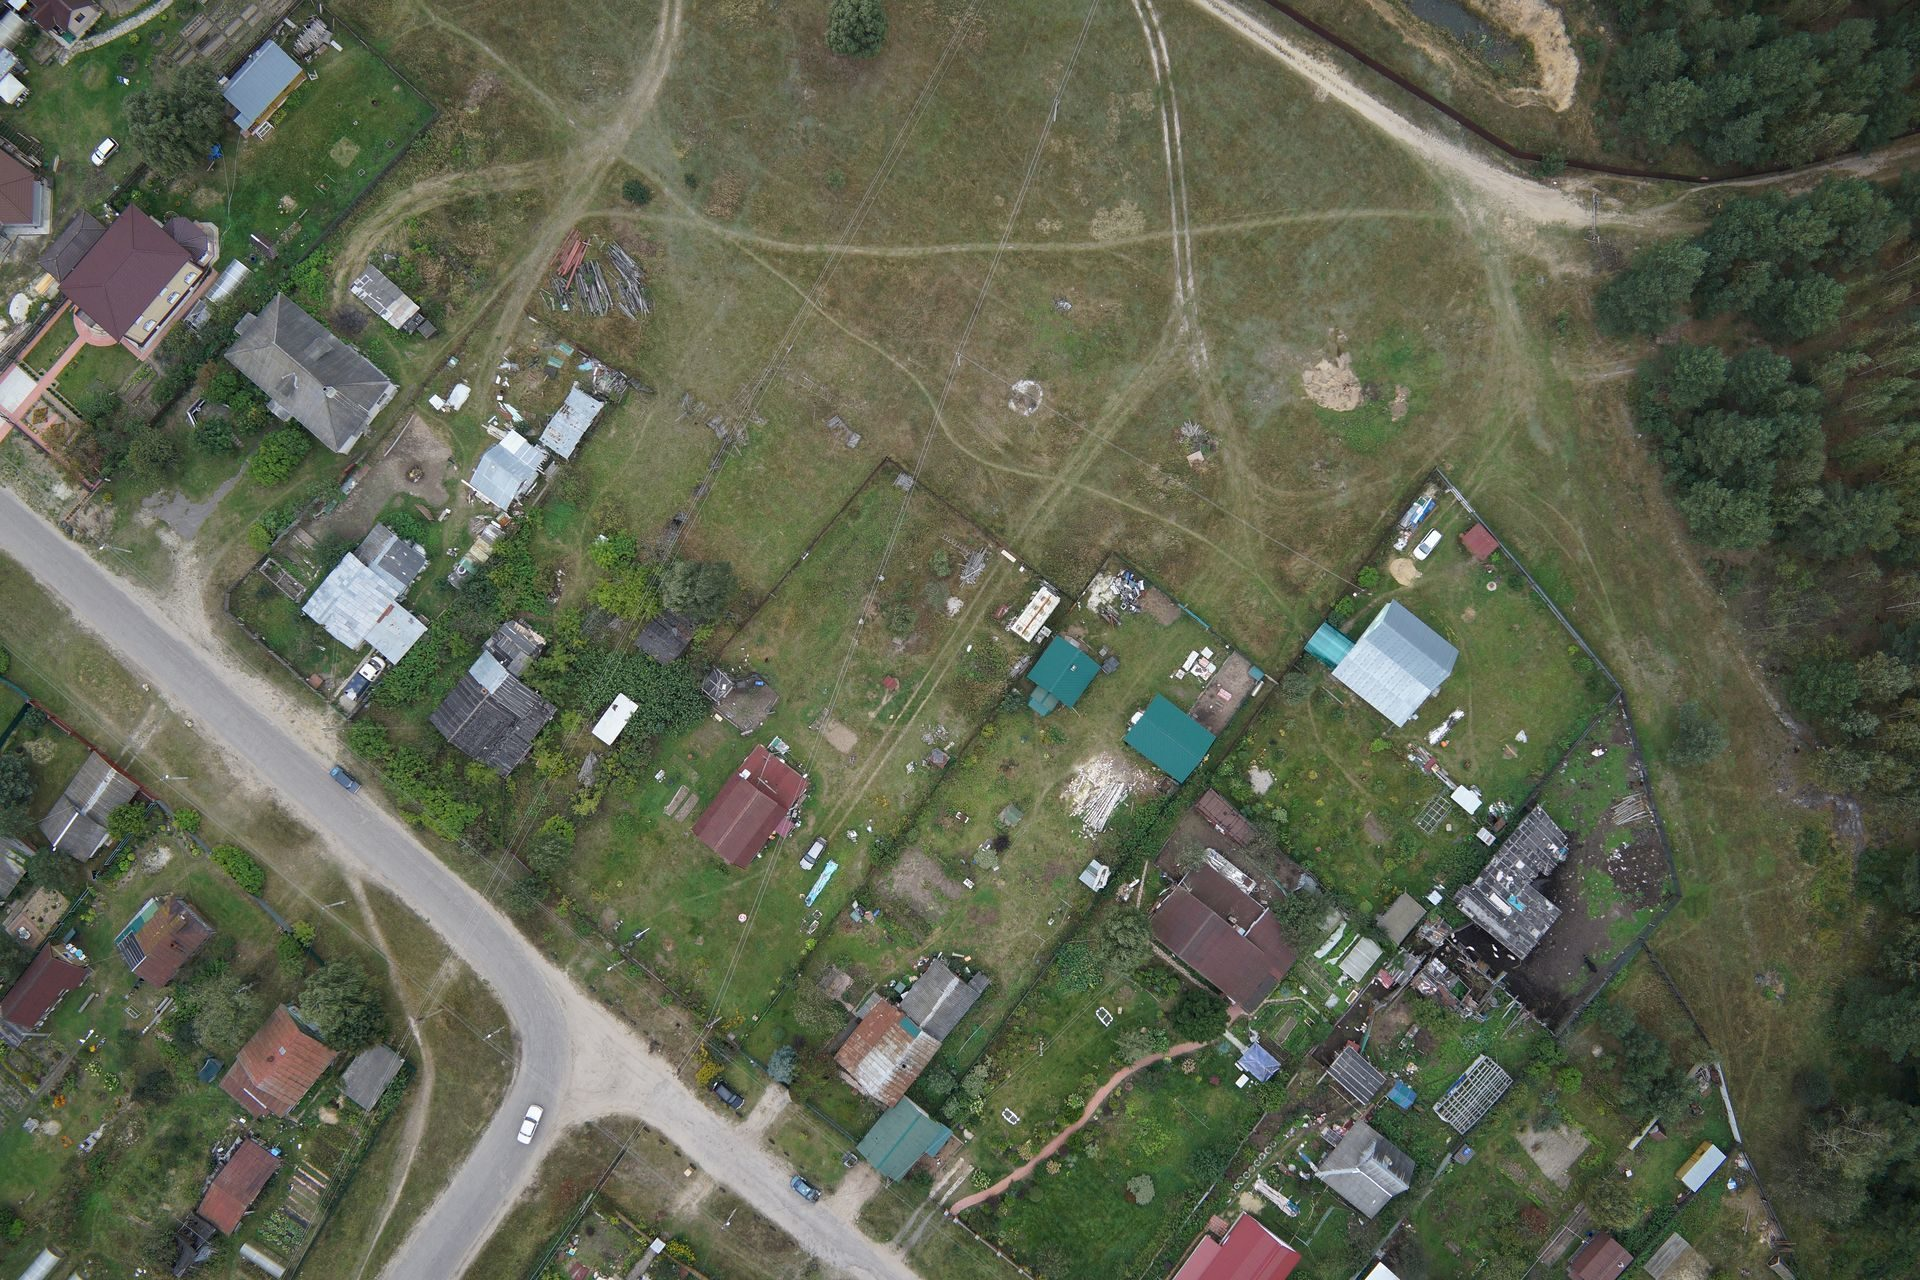build: (221, 289, 406, 450), (834, 949, 1009, 1109), (1299, 594, 1479, 734), (1149, 854, 1304, 1010), (43, 201, 200, 344), (289, 521, 427, 671), (431, 624, 563, 769), (690, 744, 806, 881), (990, 583, 1104, 721), (216, 994, 347, 1114), (34, 744, 141, 863), (1, 926, 99, 1041), (1141, 1211, 1301, 1280), (1311, 1114, 1419, 1211), (189, 1134, 284, 1236), (106, 894, 209, 983), (219, 36, 306, 139), (1, 131, 63, 260), (1129, 693, 1216, 781), (1429, 1050, 1514, 1134), (469, 436, 549, 506), (347, 267, 437, 329), (31, 1, 104, 46)
